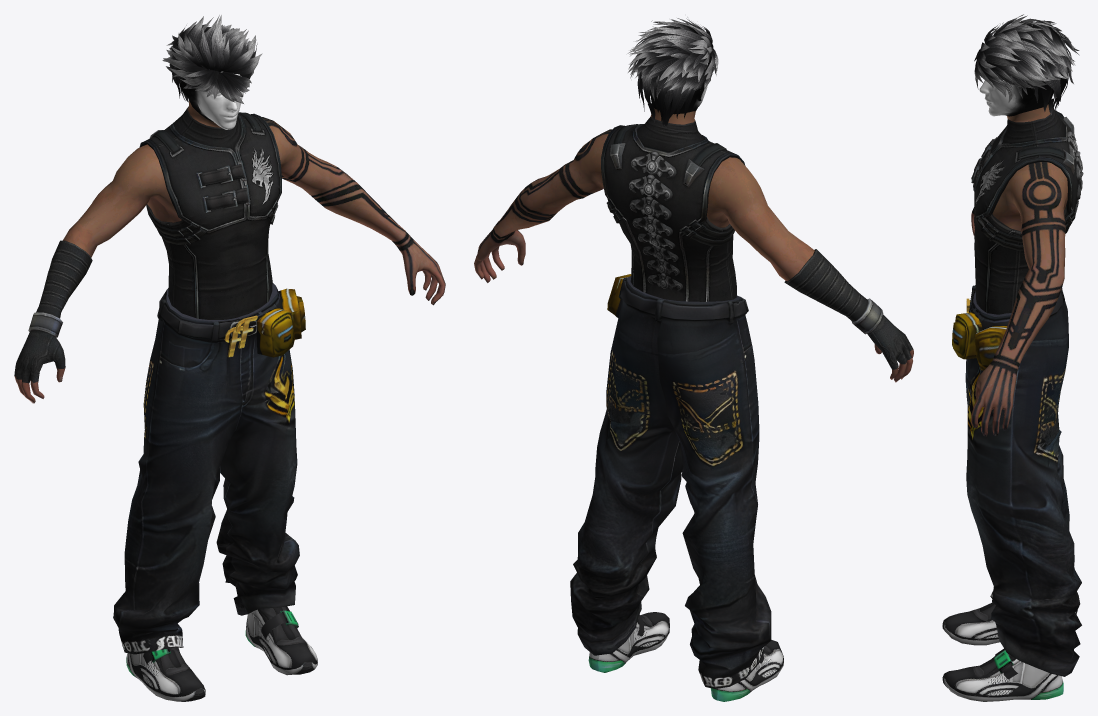
The model's file is presy.glb.
3 views of the same model, side by side, from view 1: azimuth 30°, elevation 25°; view 2: azimuth 150°, elevation 25°; view 3: azimuth 270°, elevation 25° (orthographic).
Parts seen in each view (by area): view 1: presy; view 2: presy; view 3: presy.
Boxes of the visible parts, box(x1,y1,x2,y2) form: presy: box(14, 15, 445, 701); presy: box(474, 17, 913, 701); presy: box(942, 14, 1083, 701).
Size of the model in its own units: 0.6339 by 0.9224 by 0.1816.
Materials: 6 (6 with a texture image).
